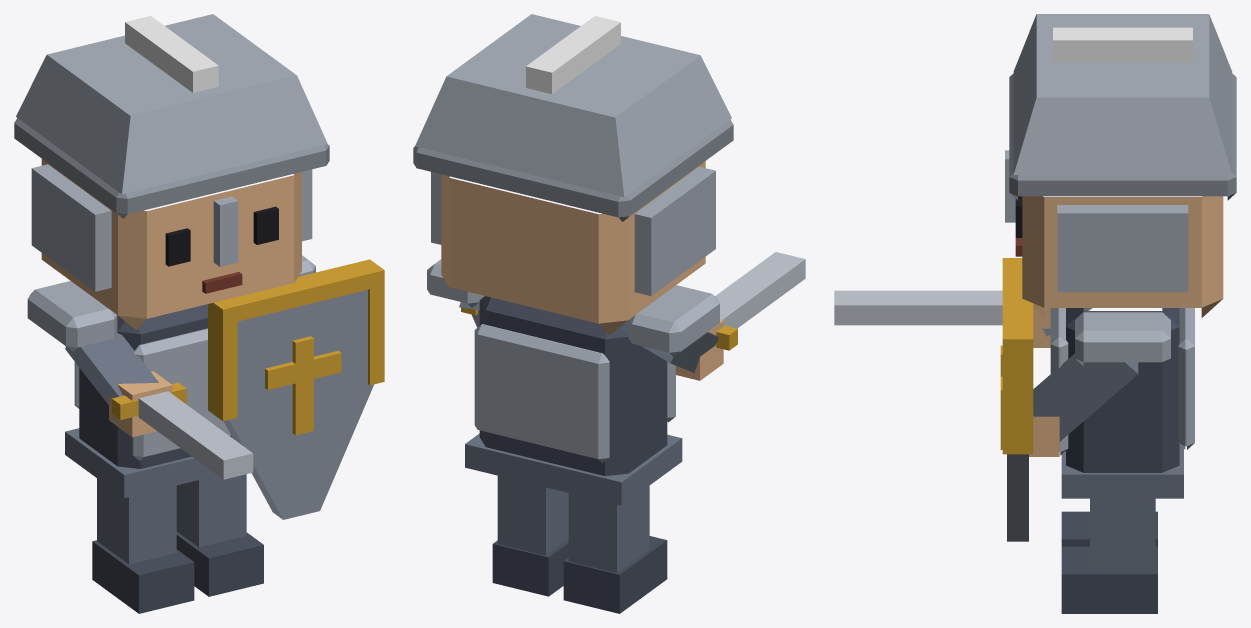
The model's file is shield_knight_common.glb.
3 renders of one model, left to right at view 1: azimuth 30°, elevation 25°; view 2: azimuth 150°, elevation 25°; view 3: azimuth 270°, elevation 25°, orthographic. The views are drawn at different scales.
Parts seen in each view (by area): view 1: shield_knight_common_mesh; view 2: shield_knight_common_mesh; view 3: shield_knight_common_mesh.
Part boxes in pixels (bbox=[...]): shield_knight_common_mesh: bbox=[14, 14, 384, 613]; shield_knight_common_mesh: bbox=[413, 14, 805, 613]; shield_knight_common_mesh: bbox=[834, 14, 1236, 613].
Size of the model in its own units: 0.7134 by 1.3 by 0.8635.
Materials: 1 (1 with a texture image).
